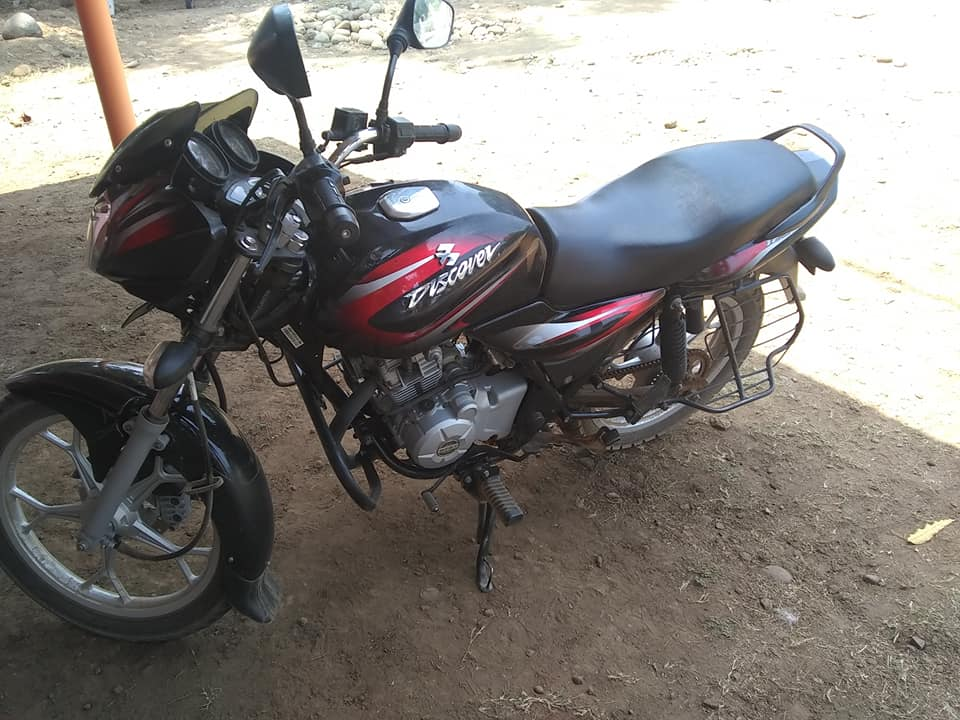moto: (3, 7, 848, 645)
